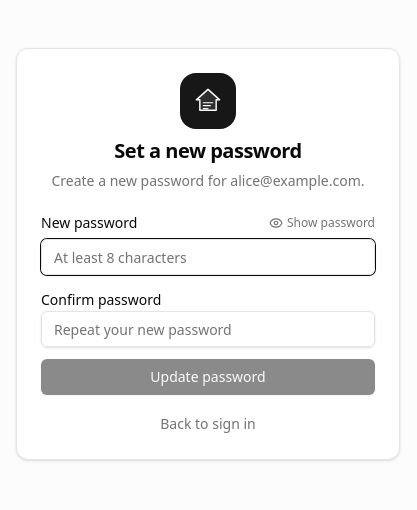
Test: AuthActionPage › resetPassword mode › shows a friendly error when confirm fails and re-enables the form
Type "abcdefgh" into the password field labelled "New password". click: point(208, 257)
box: [41,239,375,275]
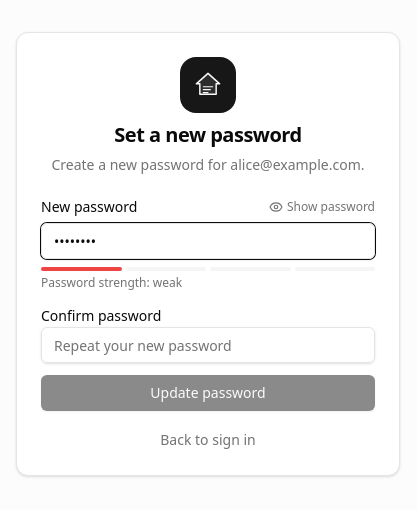
Type "abcdefgh" into the password field labelled "Confirm password". click: point(208, 345)
box: [41,327,375,363]
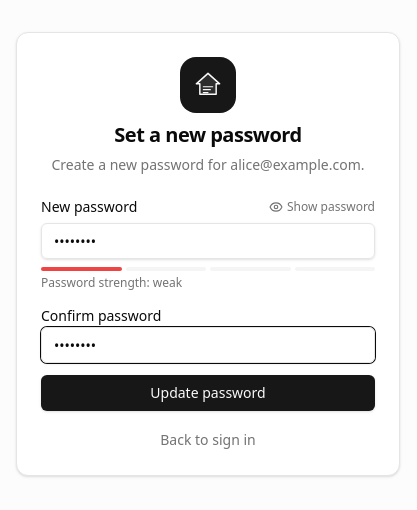
Click the button "Update password". click: point(208, 393)
box: [41,375,375,411]
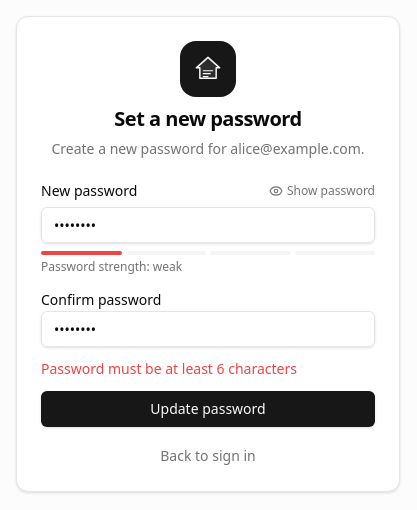
Now the button "Update password" is enabled, box [41,391,375,427]
Now the text "Password must be at least 6 characters" is shown, box [41,359,297,378]
